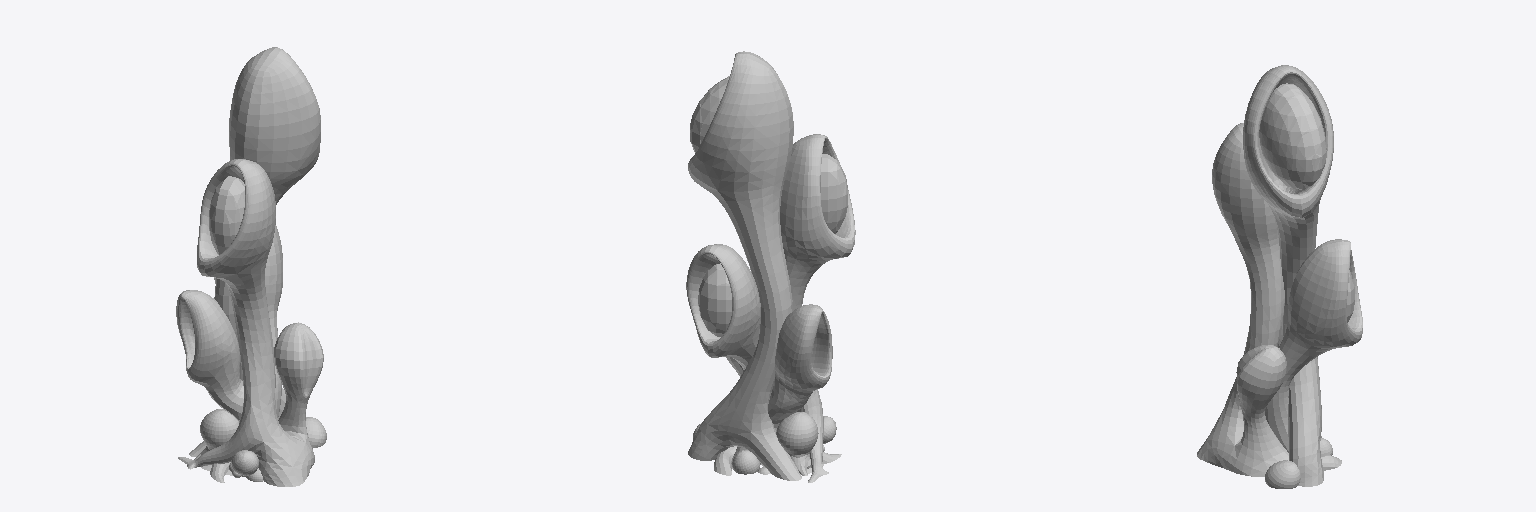
The model's file is tree6.obj.
3 views of the same model, side by side, from view 1: azimuth 30°, elevation 25°; view 2: azimuth 150°, elevation 25°; view 3: azimuth 270°, elevation 25° (orthographic).
Visible parts, largest first — view 1: AlienPlant01.001, Mball.001; view 2: AlienPlant01.001, Mball.001; view 3: AlienPlant01.001, Mball.001.
Boxes of the visible parts, x1,y1,x2,y2 form: AlienPlant01.001: [176, 47, 326, 486]; Mball.001: [209, 176, 244, 254]; AlienPlant01.001: [686, 51, 855, 482]; Mball.001: [690, 76, 847, 336]; AlienPlant01.001: [1197, 65, 1362, 488]; Mball.001: [1259, 83, 1354, 322].
Size of the model in its own units: 14.19 by 38.29 by 14.52.